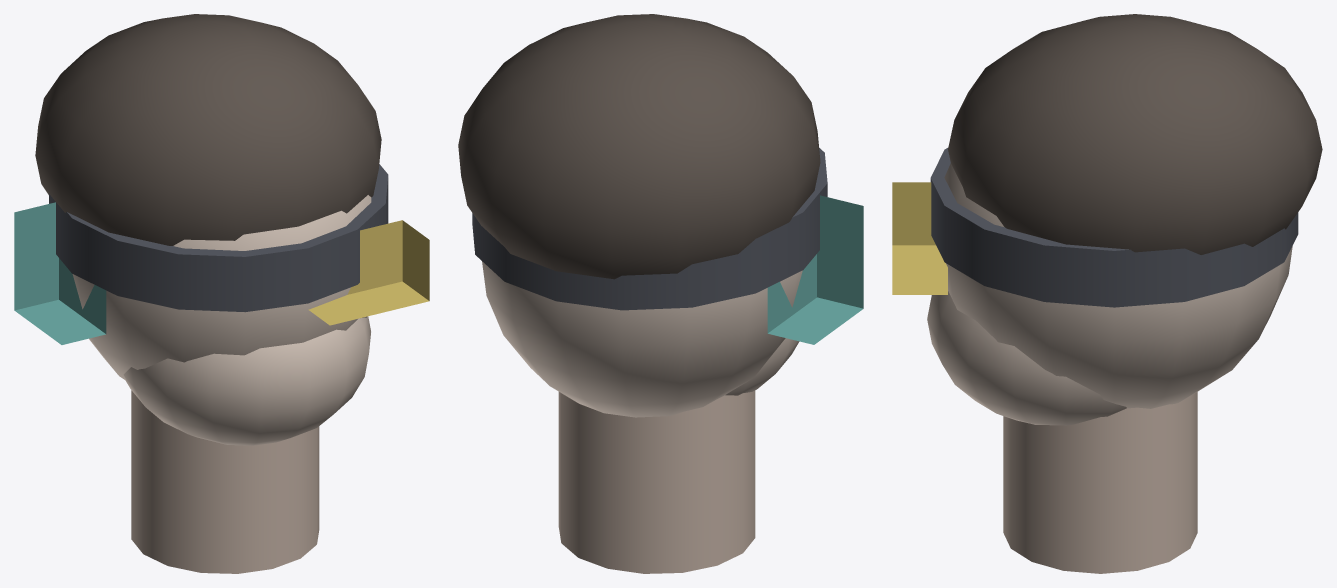
File: tech_head_m2.glb
3 views of the same model, side by side, from view 1: azimuth 30°, elevation 25°; view 2: azimuth 150°, elevation 25°; view 3: azimuth 270°, elevation 25° (orthographic). The views are drawn at different scales.
Parts seen in each view (by area): view 1: tech_head; view 2: tech_head; view 3: tech_head.
Part boxes in pixels (box(x1,y1,x2,y2)): tech_head: box(14, 14, 429, 573); tech_head: box(458, 14, 863, 573); tech_head: box(892, 14, 1322, 573).
Size of the model in its own units: 0.2815 by 0.395 by 0.31.
